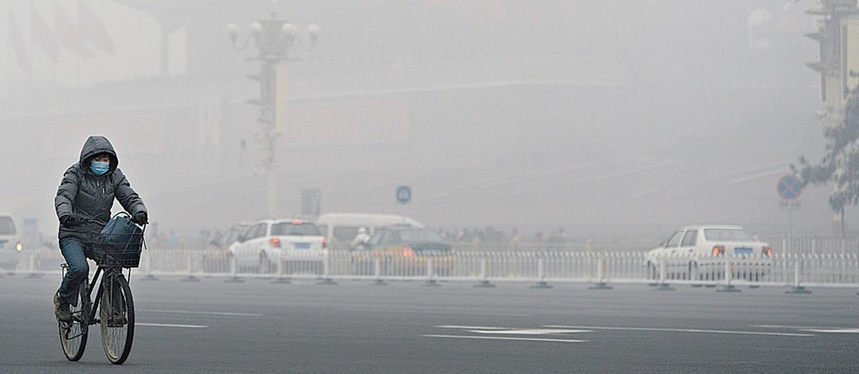bicycle: (54, 212, 149, 367)
bus: (310, 212, 428, 268)
car: (642, 223, 774, 287), (221, 218, 328, 281), (362, 226, 454, 278), (200, 221, 264, 274), (1, 212, 23, 277)
motorbike: (347, 242, 377, 276)
person: (51, 133, 150, 324), (348, 226, 374, 263), (145, 221, 160, 262), (456, 228, 473, 262), (474, 228, 489, 265), (484, 226, 498, 262), (544, 228, 557, 266), (554, 227, 568, 261), (509, 227, 521, 264), (171, 228, 184, 262), (203, 229, 214, 263), (160, 228, 171, 260)
